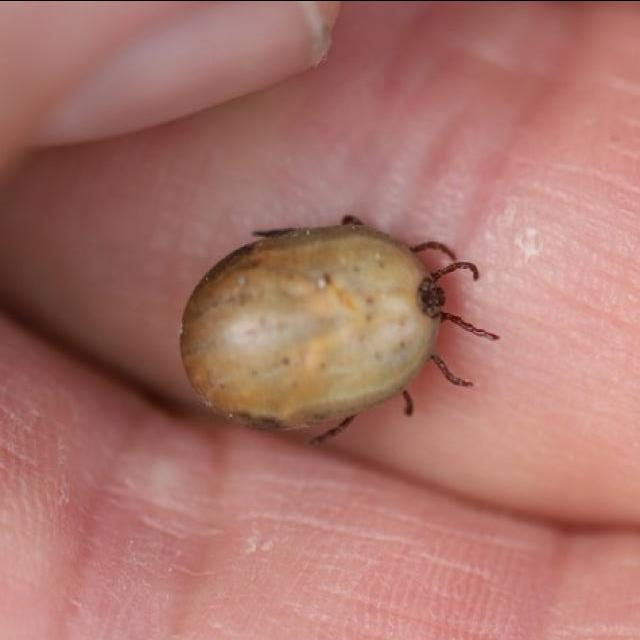Dermacentor Reticulatus-F-Fed: (178, 214, 499, 438)
